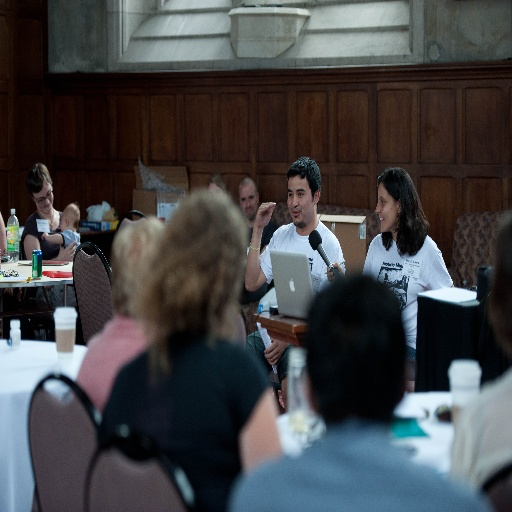hand: (263, 337, 289, 367), (254, 197, 277, 229), (325, 260, 346, 285), (58, 239, 77, 263), (41, 232, 49, 243)
